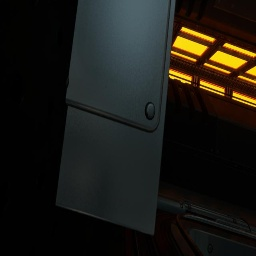SafetySwitchPanel ,: (56, 0, 176, 236)
